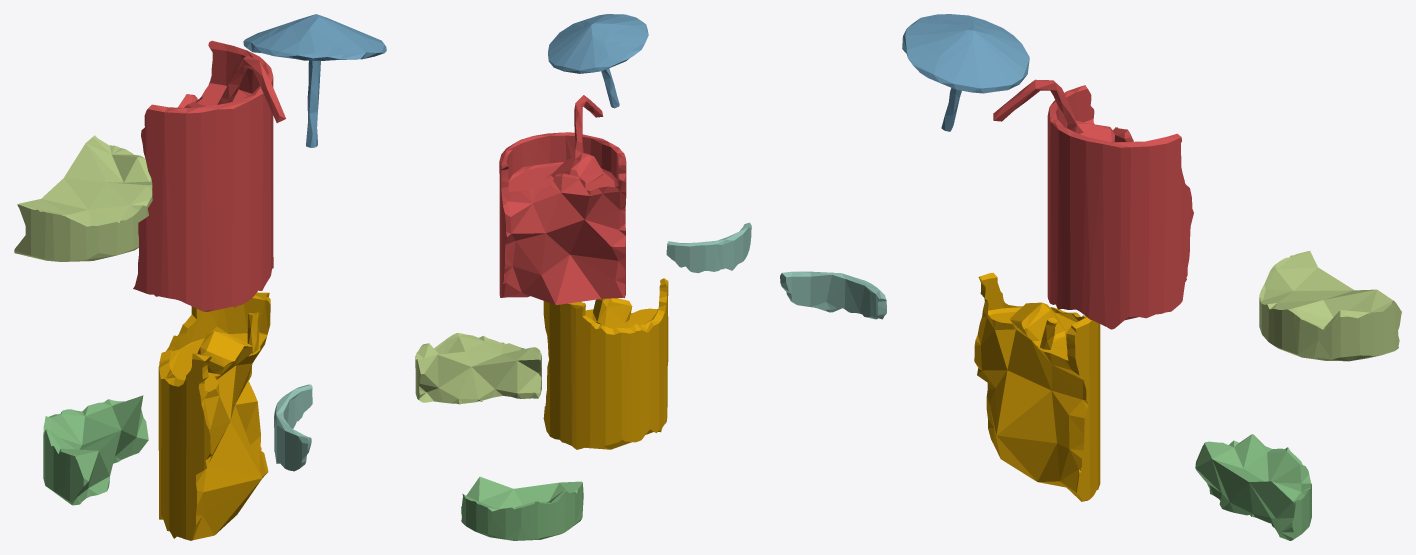
The model's file is fractured_3_6pcs_transformed.glb.
3 views of the same model, side by side, from view 1: azimuth 30°, elevation 25°; view 2: azimuth 150°, elevation 25°; view 3: azimuth 270°, elevation 25° (orthographic). The views are drawn at different scales.
Parts seen in each view (by area): view 1: piece_1.obj, piece_0.obj, piece_5.obj, piece_3.obj, piece_2.obj, piece_4.obj; view 2: piece_1.obj, piece_0.obj, piece_5.obj, piece_3.obj, piece_2.obj, piece_4.obj; view 3: piece_1.obj, piece_0.obj, piece_5.obj, piece_2.obj, piece_3.obj, piece_4.obj.
Boxes of the visible parts, x1=… form: piece_1.obj: x1=133, y1=40, x2=285, y2=311; piece_0.obj: x1=158, y1=292, x2=270, y2=540; piece_5.obj: x1=14, y1=135, x2=152, y2=261; piece_3.obj: x1=43, y1=395, x2=148, y2=505; piece_2.obj: x1=243, y1=14, x2=386, y2=147; piece_4.obj: x1=274, y1=384, x2=312, y2=471; piece_1.obj: x1=499, y1=95, x2=626, y2=304; piece_0.obj: x1=543, y1=278, x2=668, y2=449; piece_5.obj: x1=415, y1=333, x2=541, y2=404; piece_3.obj: x1=461, y1=476, x2=583, y2=540; piece_2.obj: x1=548, y1=14, x2=648, y2=108; piece_4.obj: x1=666, y1=222, x2=751, y2=273; piece_1.obj: x1=993, y1=79, x2=1193, y2=329; piece_0.obj: x1=974, y1=272, x2=1100, y2=501; piece_5.obj: x1=1259, y1=251, x2=1401, y2=361; piece_2.obj: x1=902, y1=14, x2=1029, y2=131; piece_3.obj: x1=1195, y1=434, x2=1311, y2=540; piece_4.obj: x1=780, y1=271, x2=886, y2=319.
Size of the model in its own units: 0.5255 by 1.6 by 1.76.
